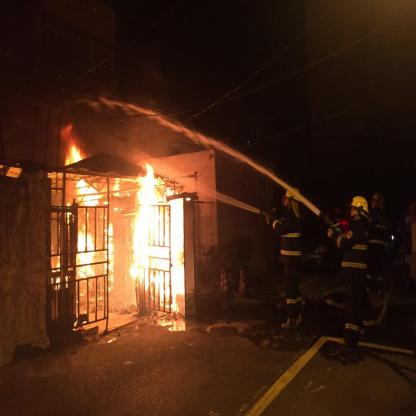fire: (66, 166, 185, 322), (61, 129, 84, 164)
other: (332, 218, 372, 272), (284, 184, 304, 207), (277, 229, 304, 244), (350, 194, 370, 210), (280, 245, 305, 255), (8, 160, 19, 180)
